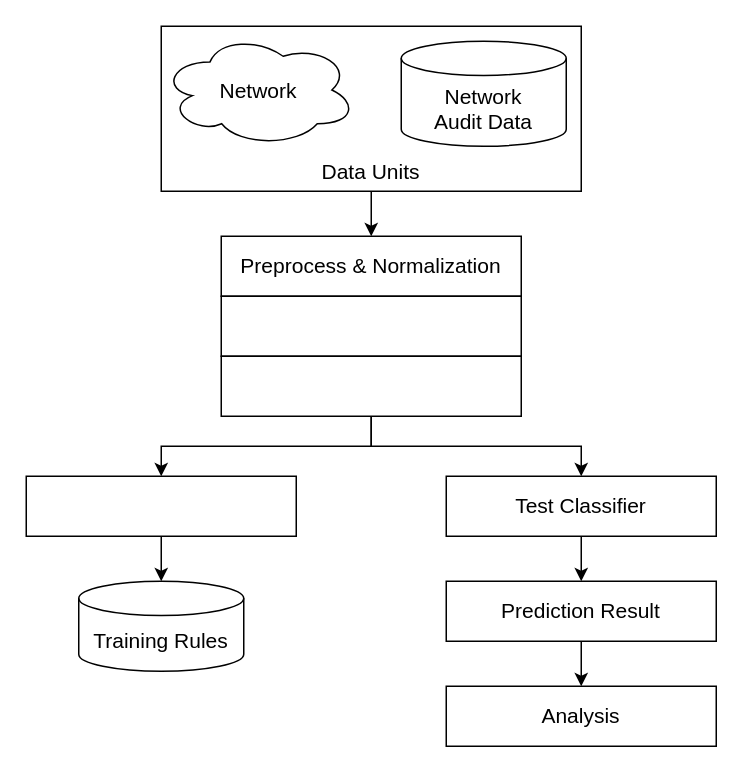
This 743x773 diagram has some shape labels left out. Each missing label, with the box of its shape:
Feature Extraction: (220, 295, 521, 356)
Feature Selection: (220, 355, 521, 416)
Train Classifier: (25, 475, 296, 536)
